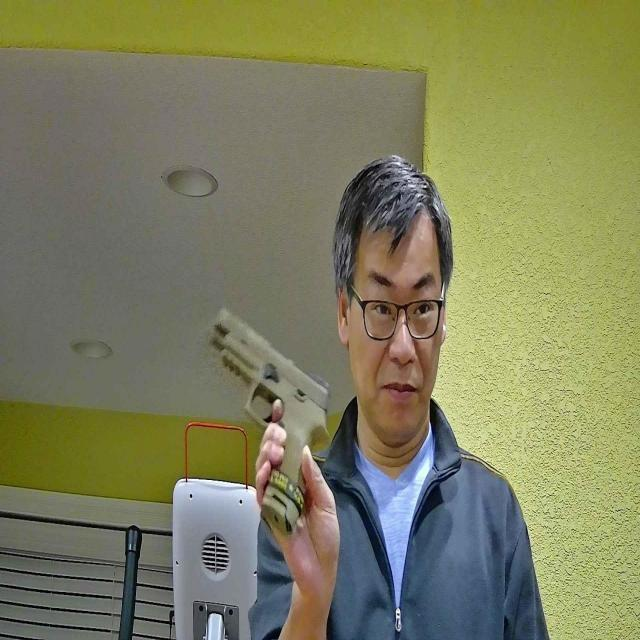Handgun: (206, 303, 331, 537)
